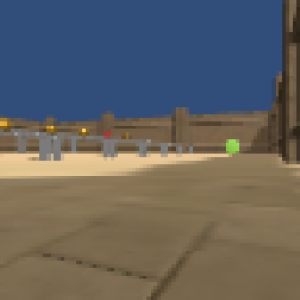badGoal: (102, 130, 113, 139)
goodGoal: (224, 139, 241, 153)
goodGoalMulti: (1, 117, 13, 129), (45, 123, 56, 133), (77, 126, 89, 135), (121, 132, 134, 139)
wall: (39, 135, 50, 160), (52, 136, 62, 161), (15, 132, 27, 151), (104, 139, 116, 158), (159, 142, 169, 159), (138, 140, 148, 156), (70, 136, 78, 151), (175, 143, 184, 155), (187, 144, 194, 154)
